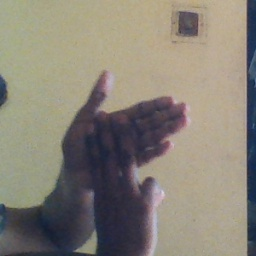M: (51, 67, 192, 229)
